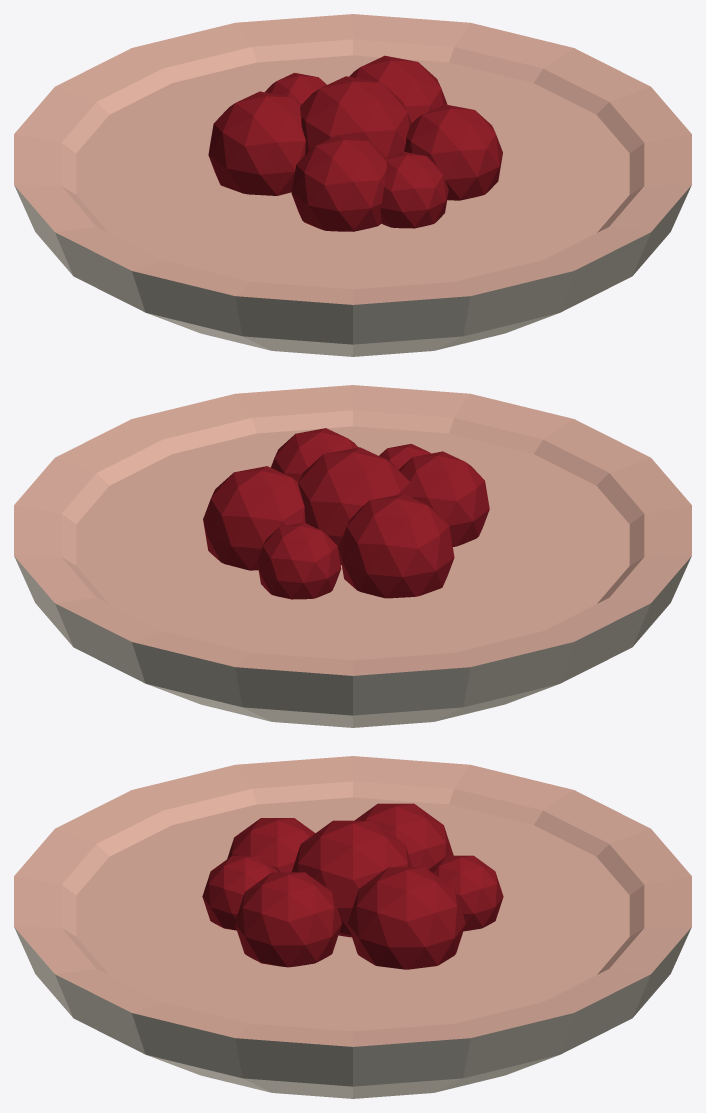
The model's file is Berry_Bowl.glb.
3 views of the same model, one above another, from view 1: azimuth 30°, elevation 25°; view 2: azimuth 150°, elevation 25°; view 3: azimuth 270°, elevation 25° (orthographic).
Visible parts, largest first — view 1: _I_BerryBowl; view 2: _I_BerryBowl; view 3: _I_BerryBowl.
Part boxes in pixels (bbox=[...]): _I_BerryBowl: bbox=[14, 14, 691, 356]; _I_BerryBowl: bbox=[14, 385, 691, 727]; _I_BerryBowl: bbox=[14, 756, 691, 1098].
Bounding box in the file's own units: 0.64 × 0.2 × 0.6303.
